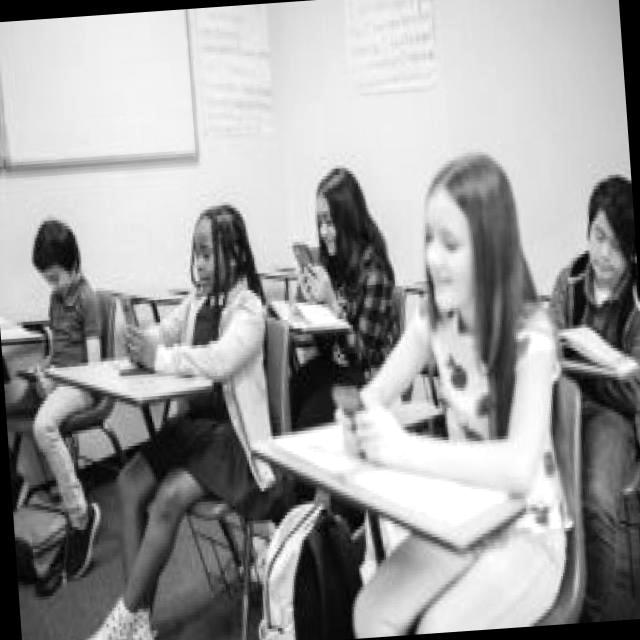phone: (290, 240, 314, 276), (120, 294, 136, 328)
